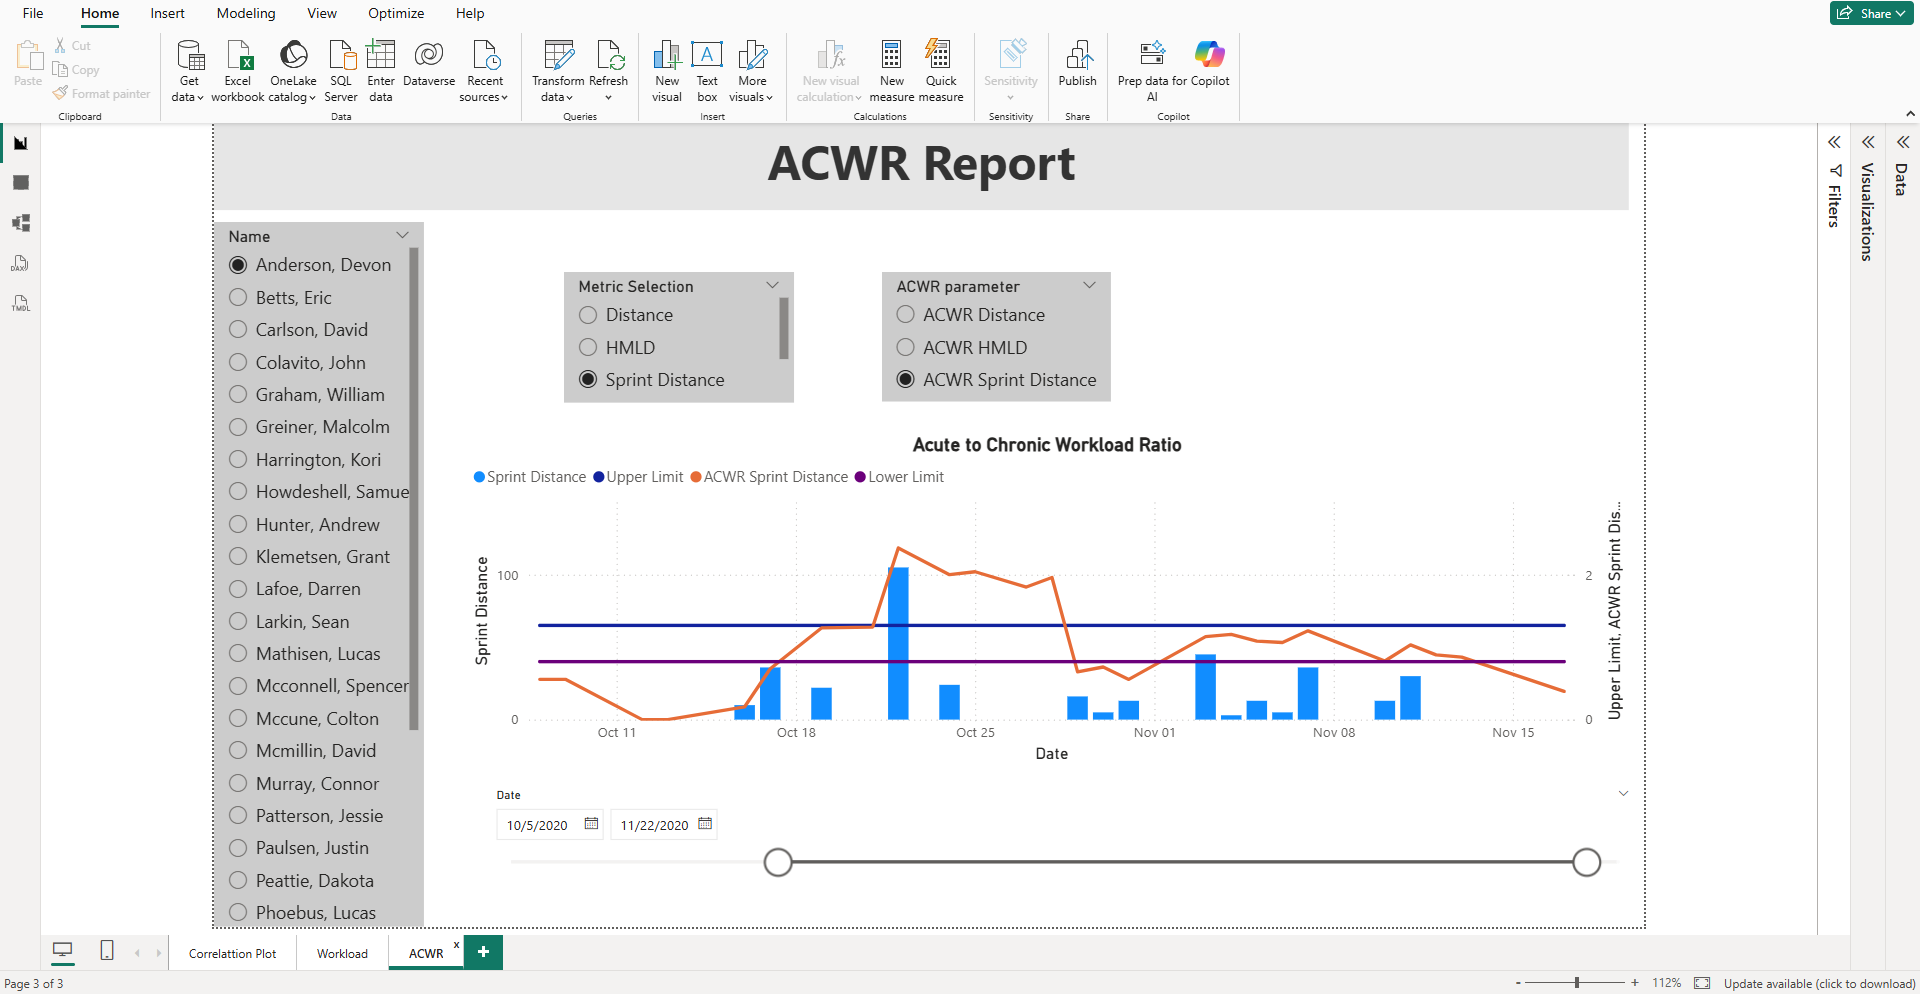

The page's visual inventory and layout, read from the dashboard file:
{"tool":"powerbi","page":{"name":"ACWR","canvas":[1280,720],"ordinal":2},"visuals":[{"type":"lineStackedColumnComboChart","title":"Acute to Chronic  Workload Ratio","fields":{"Y":["daily_gps_data.Total Sprint Distance"],"Y2":["daily_gps_data.Upper Limit","daily_gps_data.ACWR Sprint Distance","daily_gps_data.Lower Limit"],"Category":["daily_gps_data.Date"]},"box":[226.6,277.6,1039.7,300],"z":0},{"type":"slicer","fields":{"Values":["daily_gps_data.Name"]},"box":[0,88.7,188.1,631.3],"z":1000},{"type":"slicer","fields":{"Values":["daily_gps_data.Date"]},"box":[240,590.1,1039.7,118.2],"z":2000},{"type":"slicer","fields":{"Values":["Metric Selection.Metric Selection"]},"box":[313.4,133.4,206,117.3],"z":3000},{"type":"slicer","fields":{"Values":["ACWR parameter.ACWR parameter"]},"box":[598.2,133.4,205.1,116.4],"z":4000},{"type":"textbox","box":[0,0,1267.2,77.9],"z":5000}]}

Visuals, with their boxes on the page's 1280x720 design canvas (x1, y1, x2, y2). These are canvas units, not pixel positions in the 1920x994 screenshot, which may show the page scaled, cropped or inside an application window:
"Acute to Chronic  Workload Ratio" lineStackedColumnComboChart: bbox(227, 278, 1266, 578)
slicer - daily_gps_data.Name: bbox(0, 89, 188, 720)
slicer - daily_gps_data.Date: bbox(240, 590, 1280, 708)
slicer - Metric Selection.Metric Selection: bbox(313, 133, 519, 251)
slicer - ACWR parameter.ACWR parameter: bbox(598, 133, 803, 250)
textbox: bbox(0, 0, 1267, 78)
